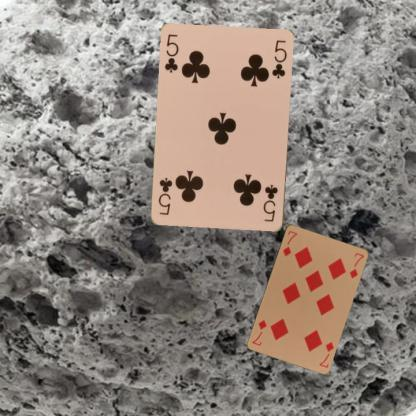5c: (162, 31, 180, 74), (262, 182, 280, 223)
7d: (316, 338, 336, 368), (280, 228, 298, 258)
